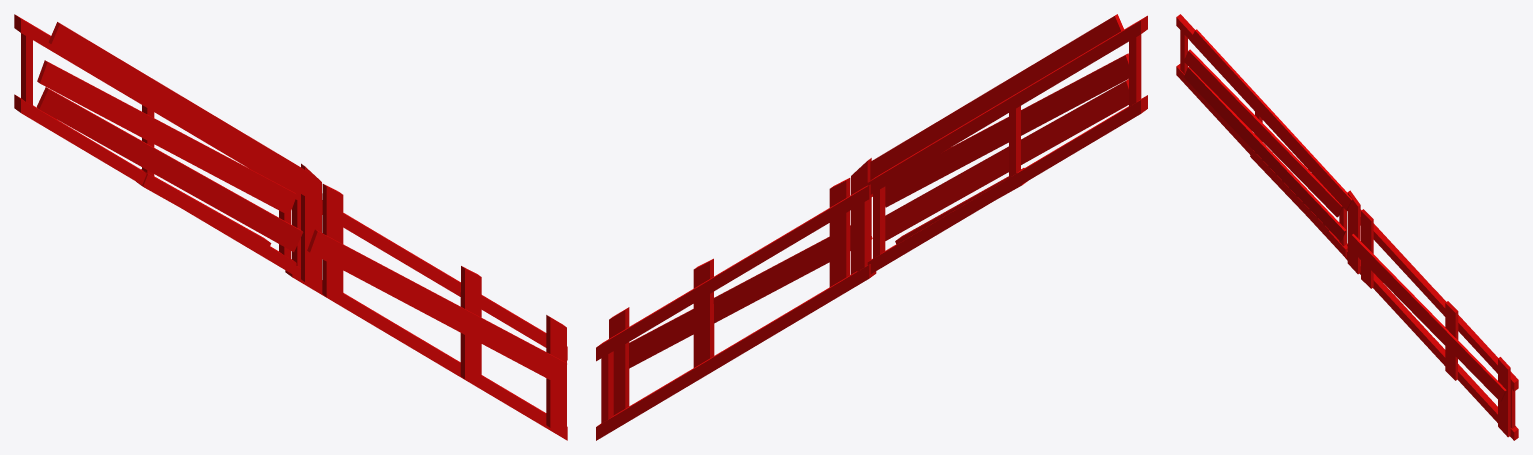
The model's file is Bastion_Fence_10_Lod0.fbx.
The picture shows the model from 3 angles, left to right: view 1: azimuth 30°, elevation 25°; view 2: azimuth 150°, elevation 25°; view 3: azimuth 330°, elevation 25°; orthographic projection. The views are drawn at different scales.
Parts seen in each view (by area): view 1: Bastion_Fence_10_Lod0; view 2: Bastion_Fence_10_Lod0; view 3: Bastion_Fence_10_Lod0.
Boxes of the visible parts, x1,y1,x2,y2 form: Bastion_Fence_10_Lod0: [14, 14, 567, 440]; Bastion_Fence_10_Lod0: [596, 14, 1147, 440]; Bastion_Fence_10_Lod0: [1176, 14, 1518, 440].
Bounding box in the file's own units: 506 × 491 × 22.85.
